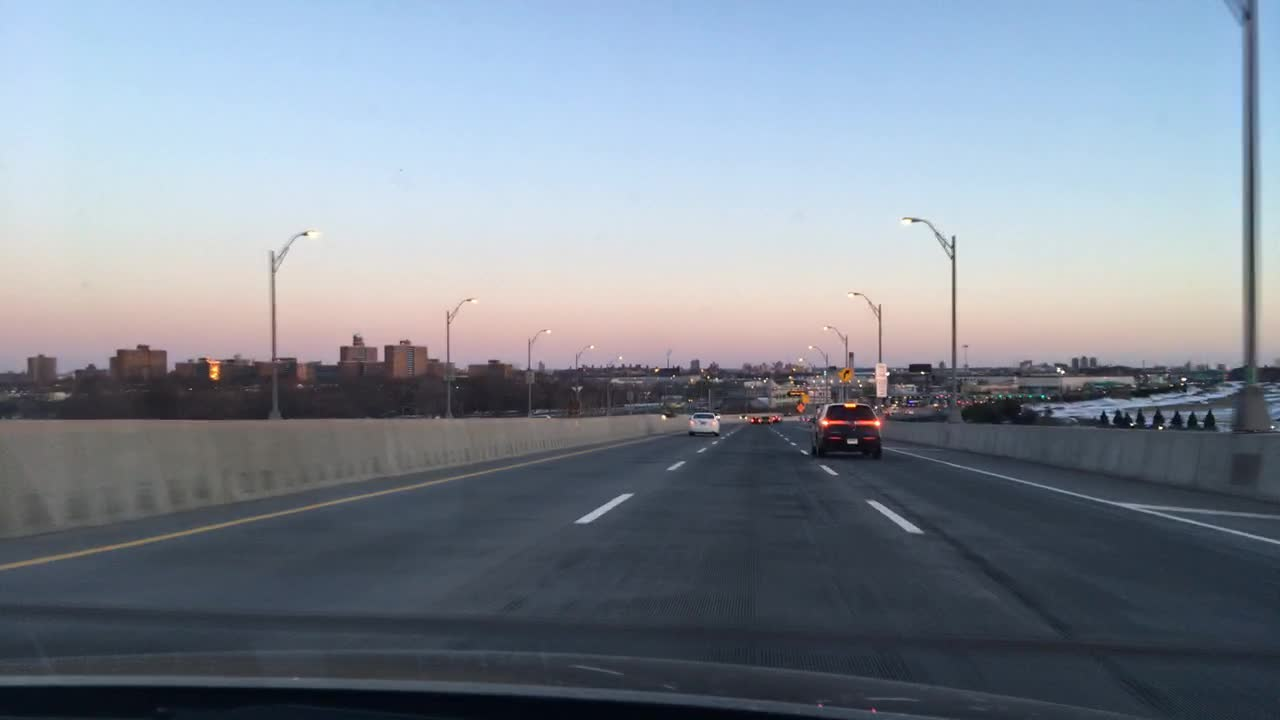car: (810, 401, 883, 458), (688, 412, 721, 437), (875, 363, 886, 399), (748, 413, 763, 425), (773, 409, 780, 427), (763, 413, 771, 425)
traffic sign: (840, 366, 855, 381), (794, 403, 807, 412), (787, 389, 806, 395)
